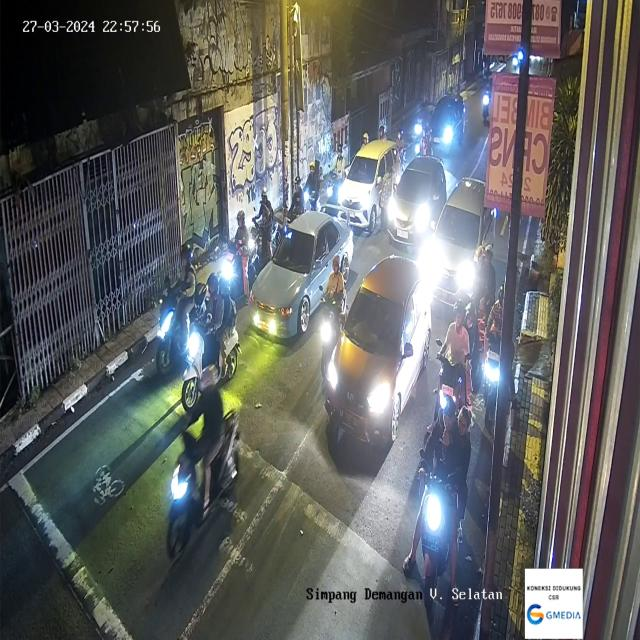car: (321, 260, 432, 447), (248, 202, 352, 344), (428, 177, 500, 310), (340, 142, 400, 232), (387, 155, 443, 249), (424, 92, 466, 156)
motorcycle: (166, 366, 241, 554), (406, 394, 468, 601), (184, 277, 242, 402), (158, 244, 203, 378), (440, 304, 483, 426), (220, 207, 254, 309), (324, 255, 345, 366), (248, 184, 280, 256), (282, 168, 306, 223)
